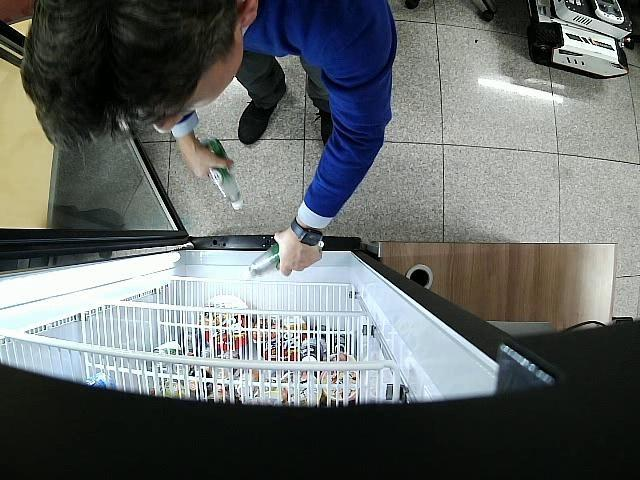18_trevi: (244, 236, 326, 280), (201, 138, 243, 211)
